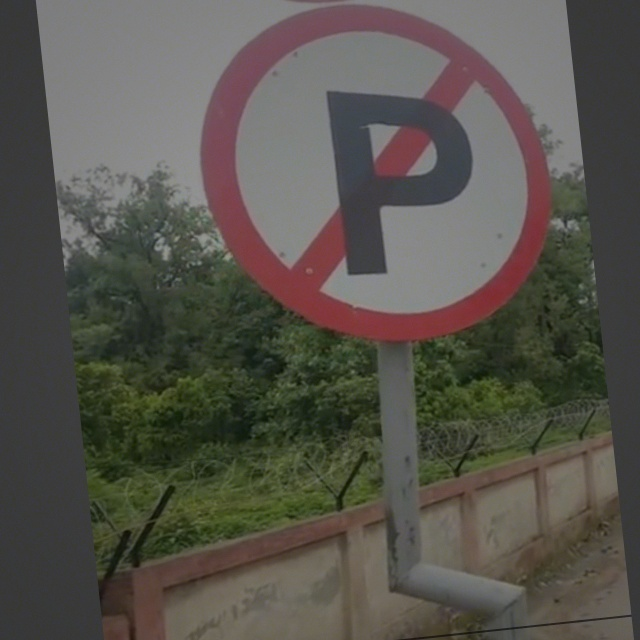No_Parking: (196, 1, 560, 352)
